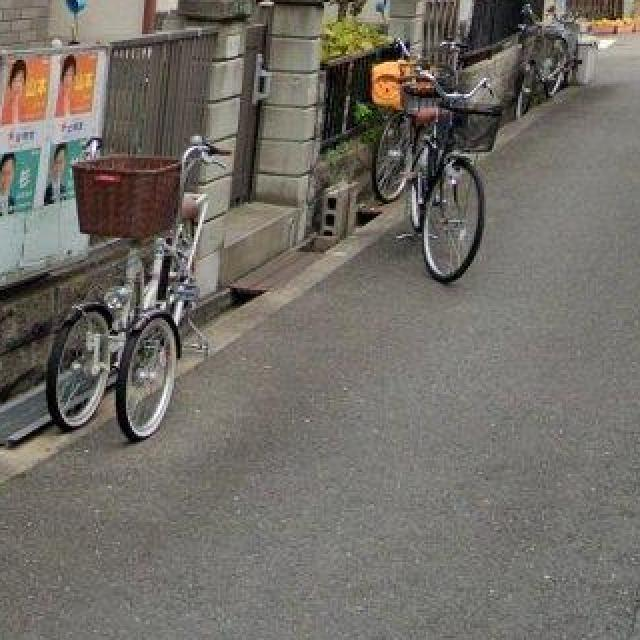bicycle: (49, 139, 223, 443), (375, 73, 505, 284), (519, 8, 583, 118)
